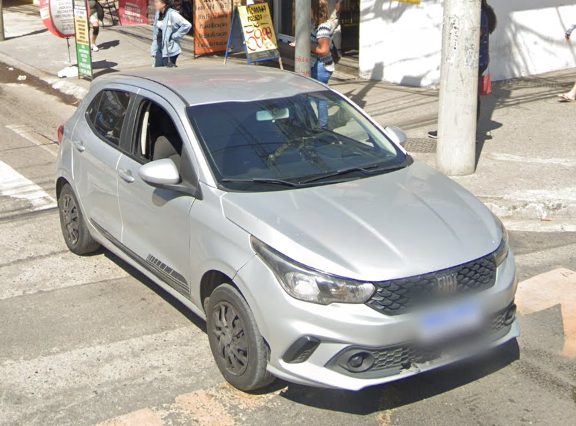car: (54, 65, 528, 395)
